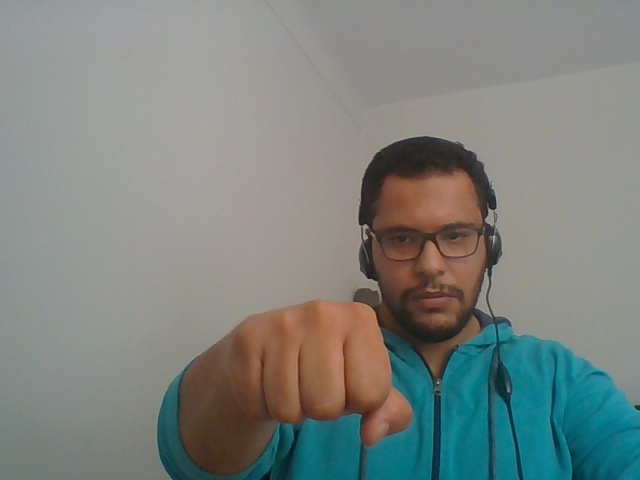yes: (186, 268, 411, 463)
